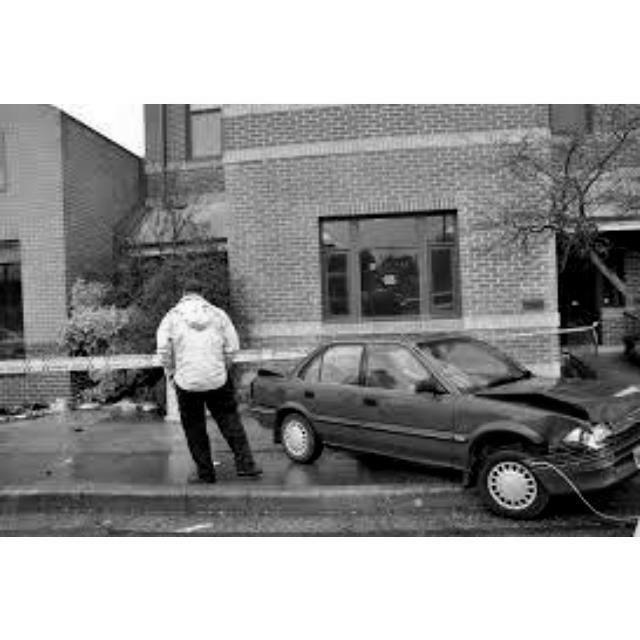bonnet-dent: (490, 368, 633, 414)
front-bumper-dent: (545, 444, 638, 497)
